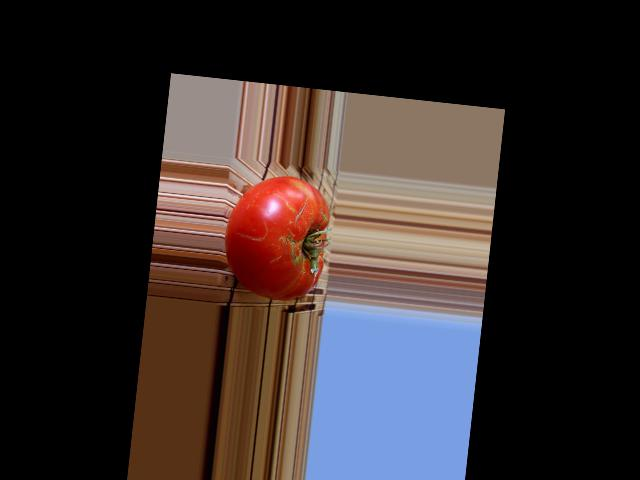tomato: (220, 170, 333, 304)
